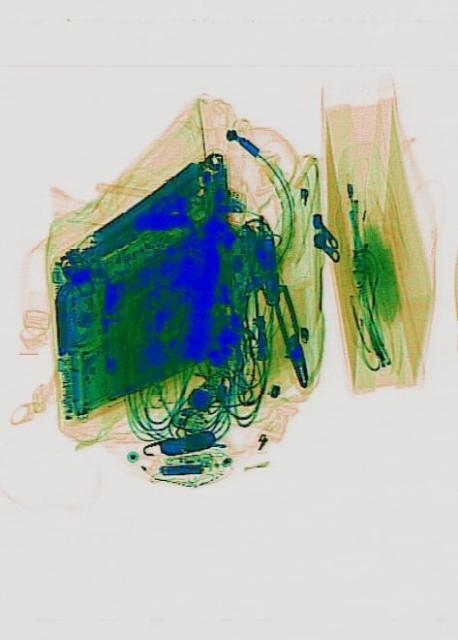Pliers: (266, 282, 315, 390)
